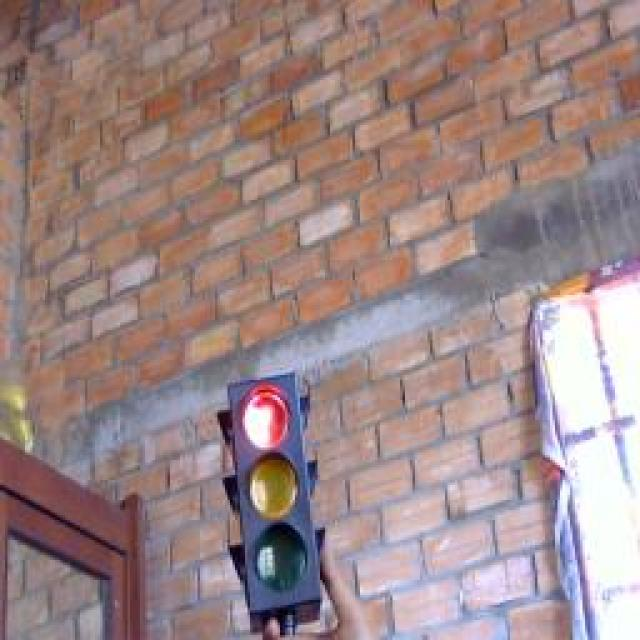-: (237, 381, 297, 451)
